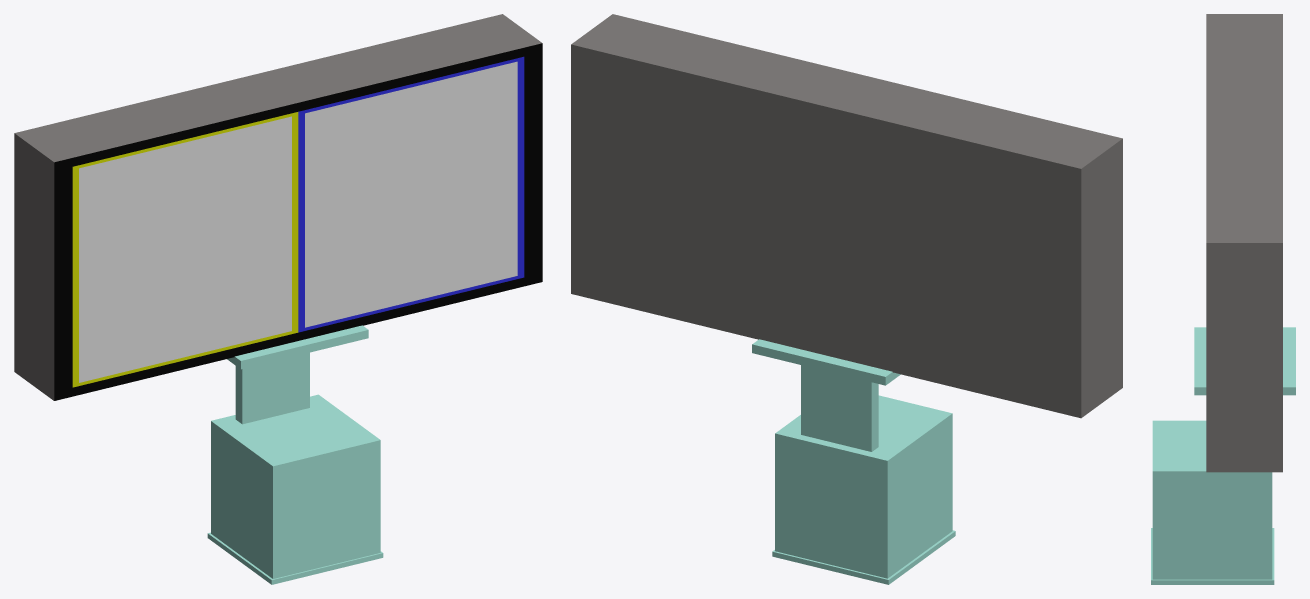
Rendered from Monitor.fbx.
3 renders of one model, left to right at view 1: azimuth 30°, elevation 25°; view 2: azimuth 150°, elevation 25°; view 3: azimuth 270°, elevation 25°, orthographic. The views are drawn at different scales.
Parts seen in each view (by area): view 1: Bildschirm, Monitor Halterung; view 2: Bildschirm, Monitor Halterung; view 3: Bildschirm, Monitor Halterung.
Part boxes in pixels (x1,y1,x2,y2): Bildschirm: (14,14,542,400); Monitor Halterung: (207,325,383,584); Bildschirm: (571,14,1122,418); Monitor Halterung: (752,339,955,584); Bildschirm: (1206,14,1282,472); Monitor Halterung: (1151,327,1295,584).
Size of the model in its own units: 4.4 by 3.85 by 1.18.
